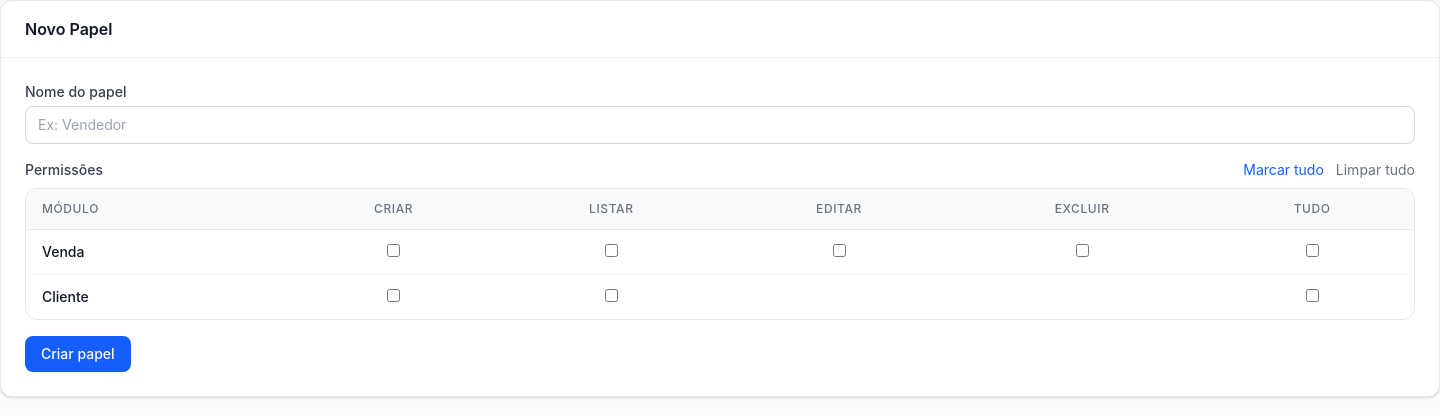
Test: PapelForm › should toggle every cell in a row via the row-level checkbox, without touching other rows
Click the 5th checkbox.
click(1312, 250)  # box [1306,244,1319,257]
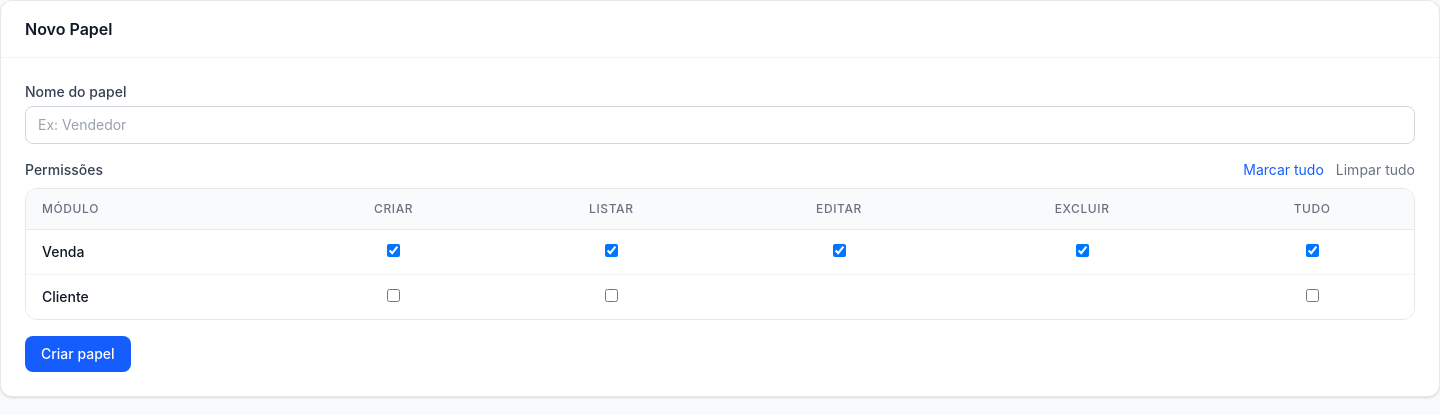
expect the 1st checkbox is checked: met, box [387,244,400,257]
expect the 2nd checkbox is checked: met, box [605,244,618,257]
expect the 3rd checkbox is checked: met, box [832,244,846,257]
Click the 5th checkbox.
click(1312, 250)  # box [1306,244,1319,257]
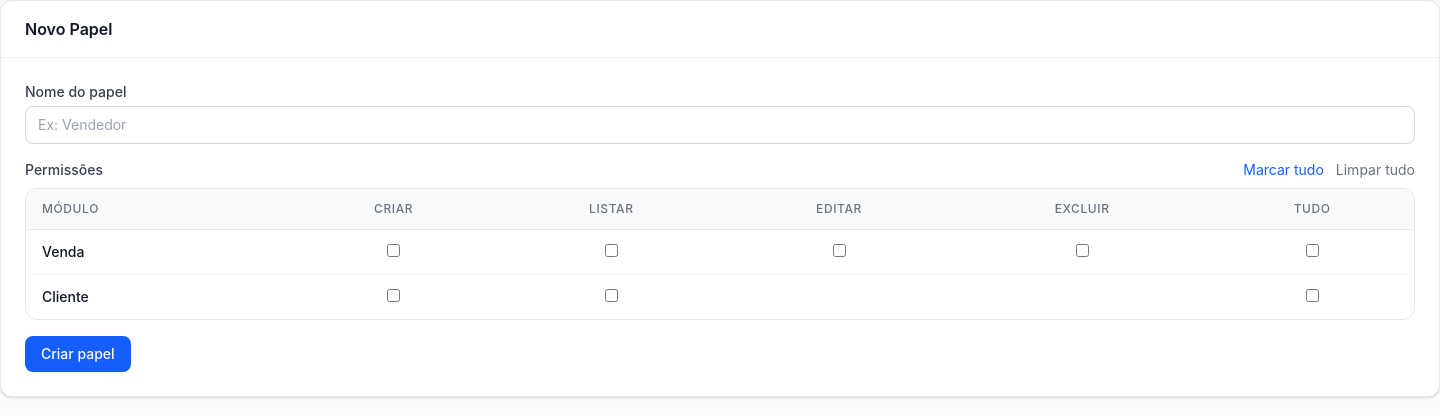
expect the 1st checkbox is not checked: met, box [387,244,400,257]
expect the 2nd checkbox is not checked: met, box [605,244,618,257]
expect the 3rd checkbox is not checked: met, box [832,244,846,257]
